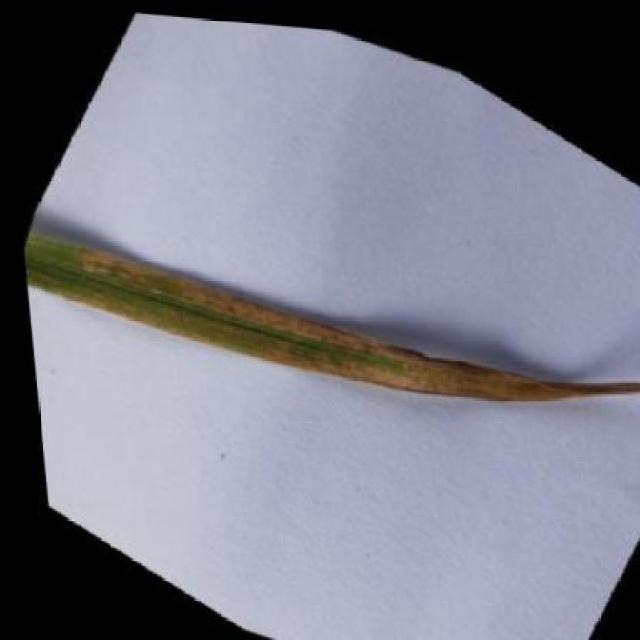Rice False Smut: (1, 20, 640, 629)
